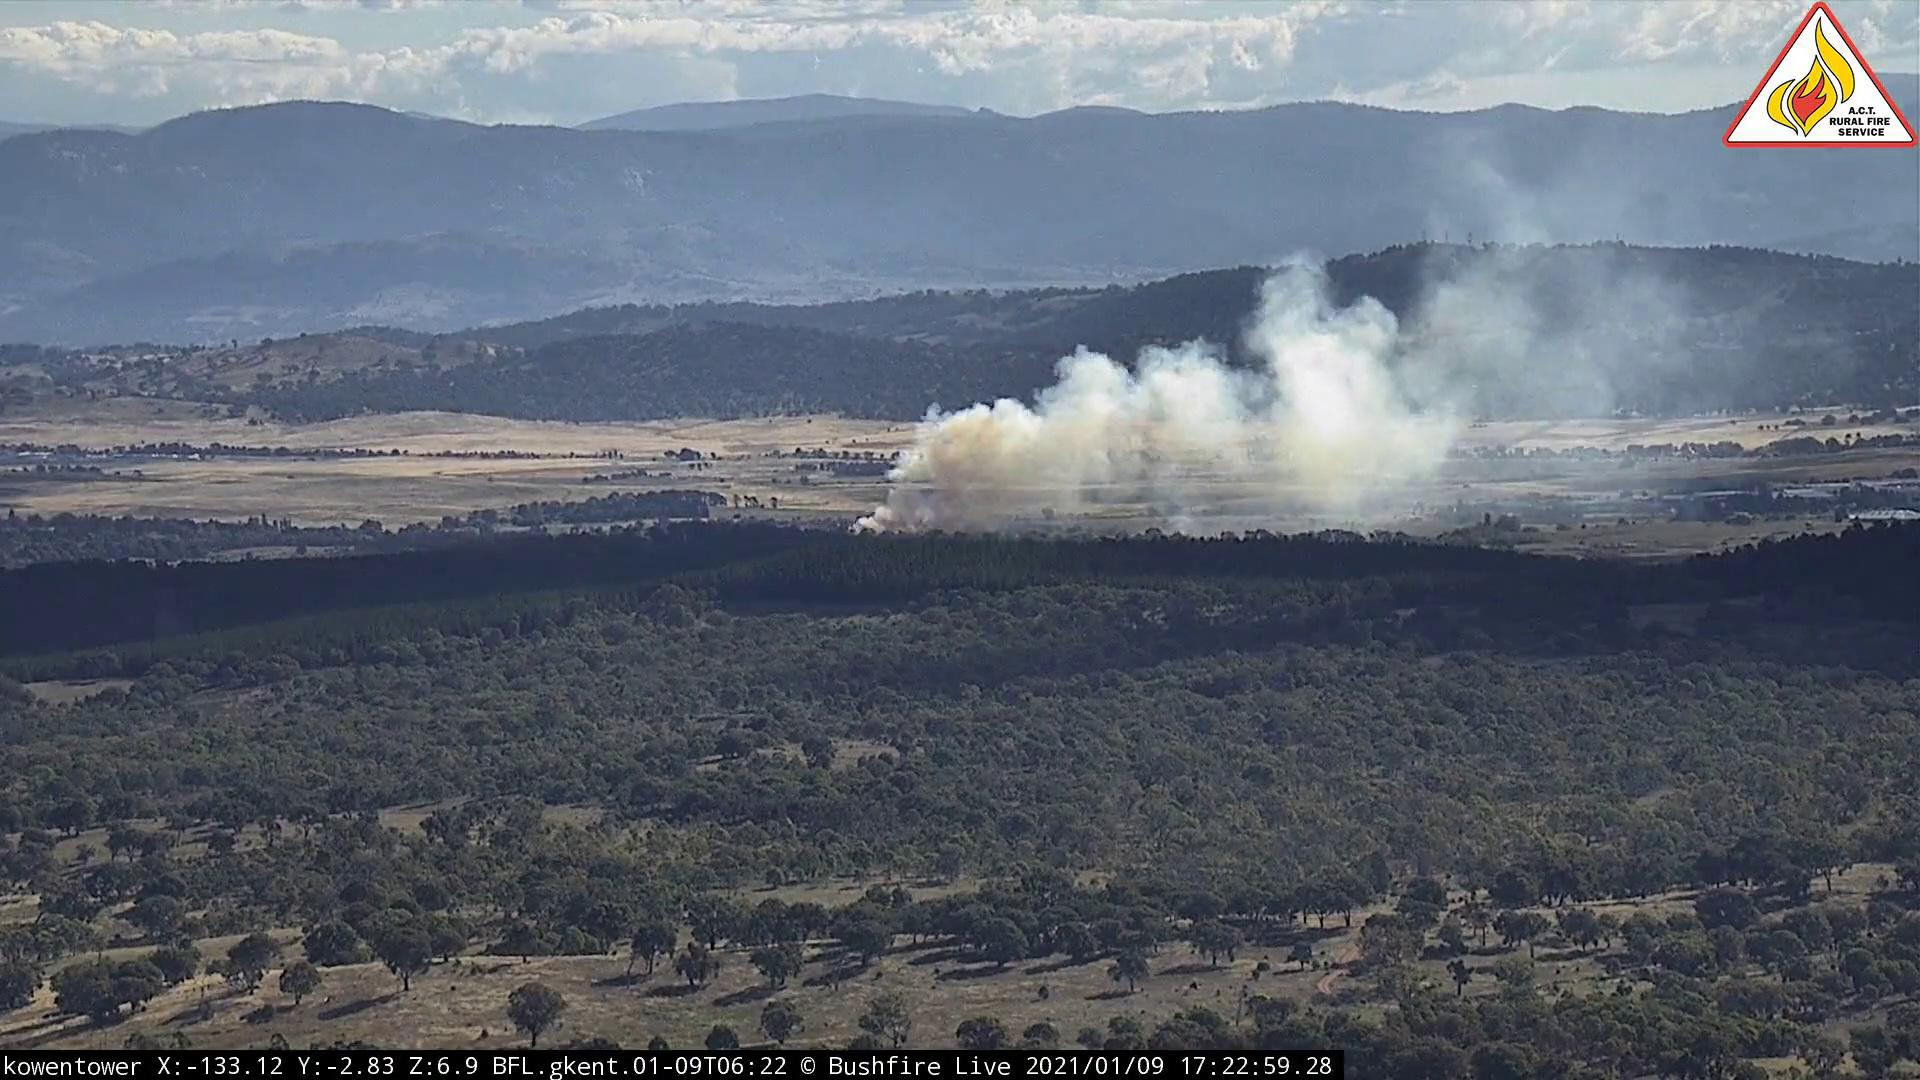instance_salient_object: (833, 156, 1844, 545)
